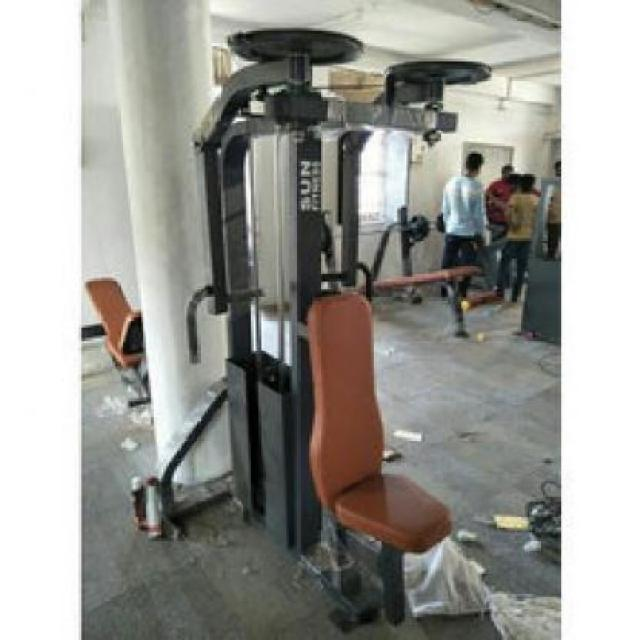chest fly machine: (114, 20, 521, 635)
